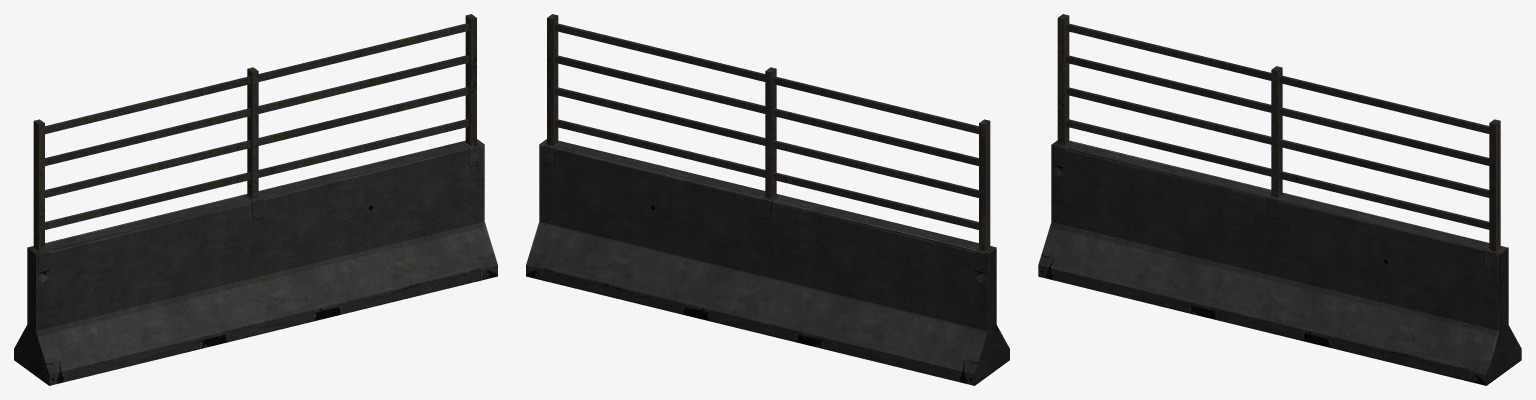
The model's file is barricade_b_3.dae.
The picture shows the model from 3 angles, left to right: view 1: azimuth 30°, elevation 25°; view 2: azimuth 150°, elevation 25°; view 3: azimuth 330°, elevation 25°; orthographic projection.
Parts seen in each view (by area): view 1: barricade_b_3; view 2: barricade_b_3; view 3: barricade_b_3.
Boxes of the visible parts, box(x1,y1,x2,y2) form: barricade_b_3: box(14, 14, 497, 385); barricade_b_3: box(526, 14, 1009, 385); barricade_b_3: box(1038, 14, 1521, 385).
Bounding box in the file's own units: 2.94 × 0.4 × 1.56.
2 materials, 2 textured.
